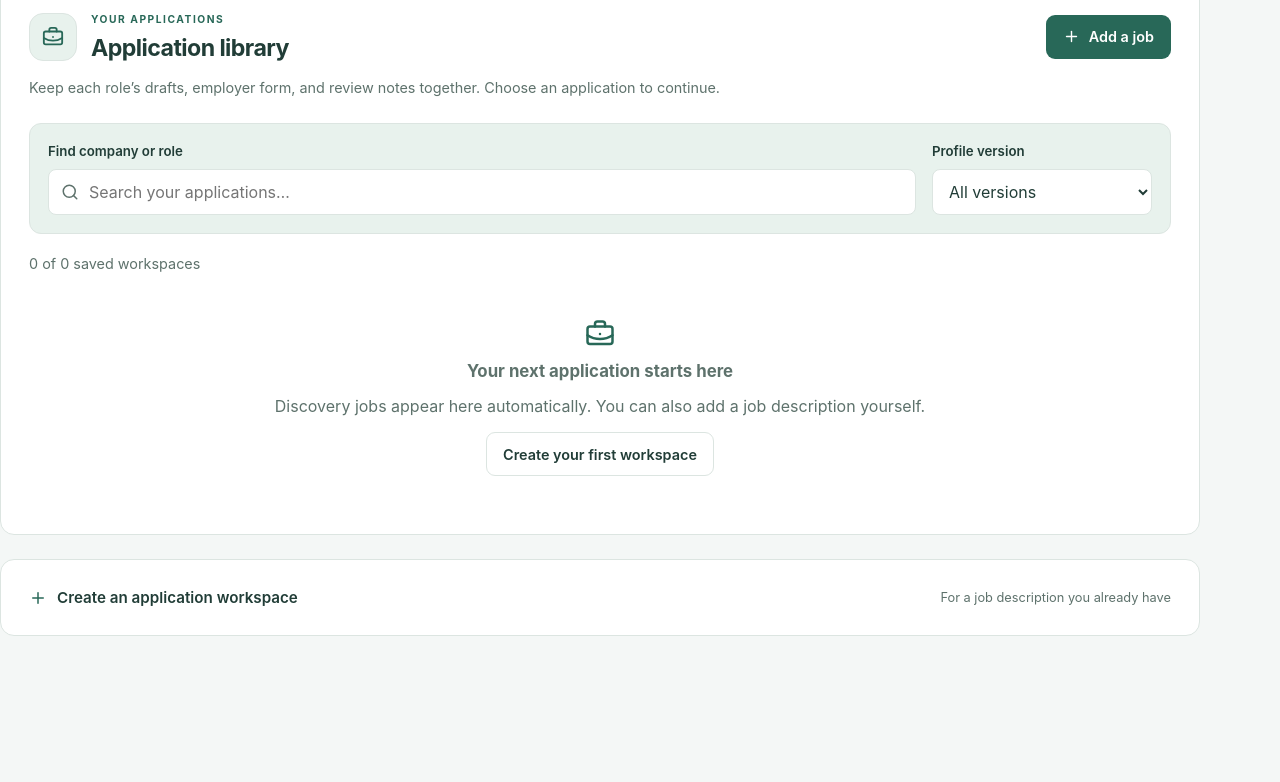
Test: creates a workspace from the collapsed add-job form
Click the button "Add a job". click: (1108, 37)
box: [1046,15,1171,59]
(page scrolled)
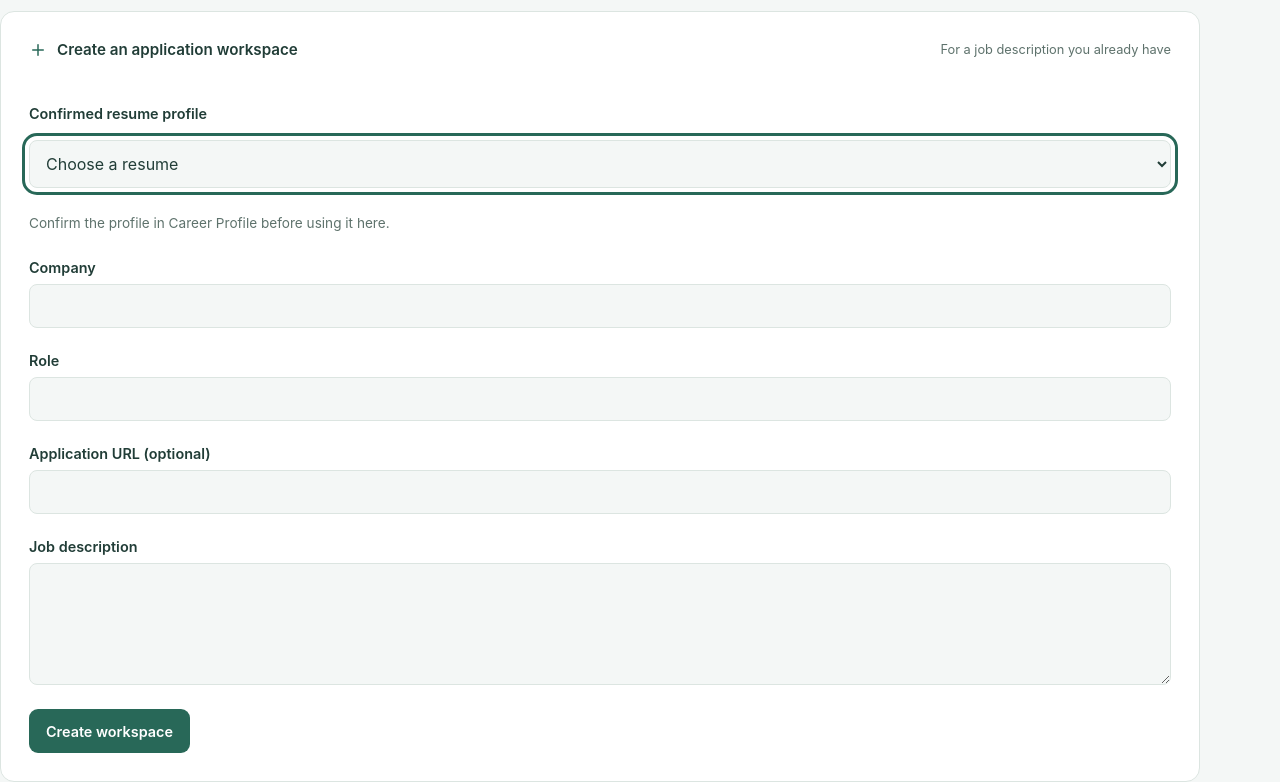
Select "Resume.pdf" in the dropdown labelled "Confirmed resume profile". click: (600, 164)
box: [29,140,1171,188]
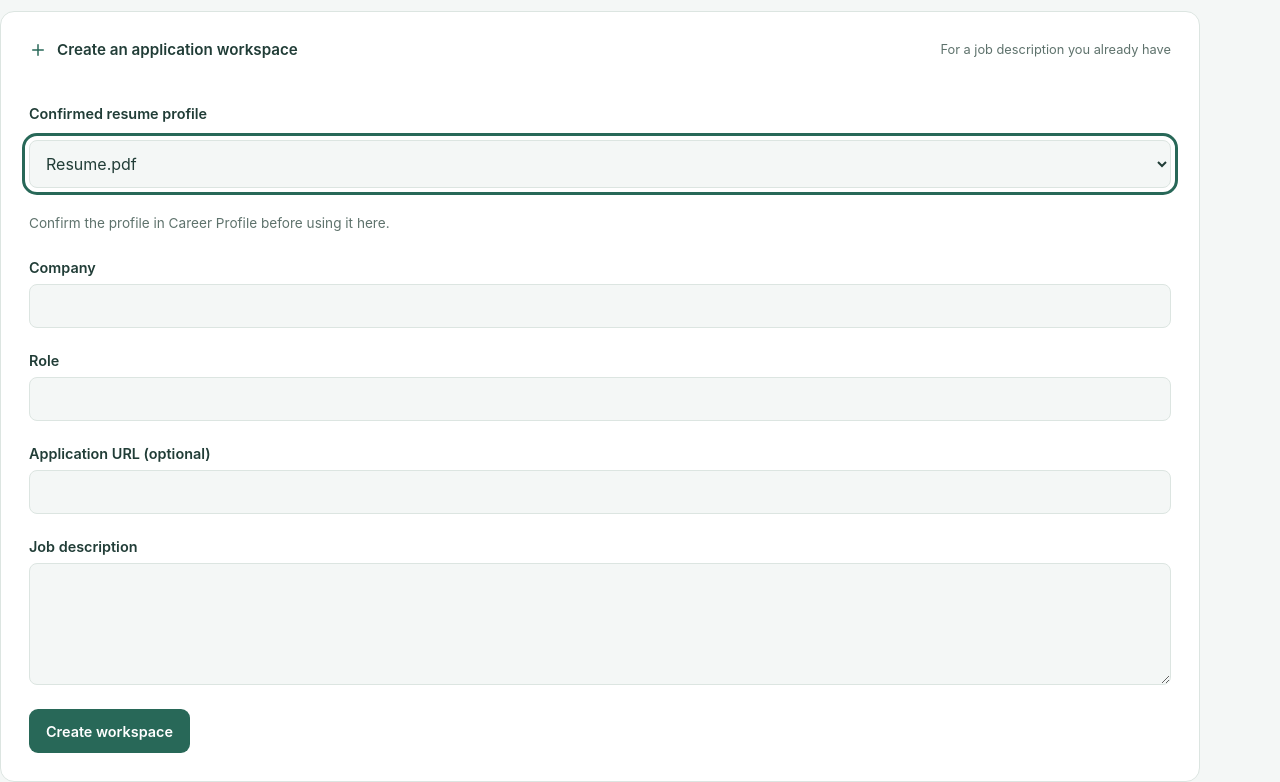
Type "Example" into the field labelled "Company". click: (600, 306)
box: [29,284,1171,328]
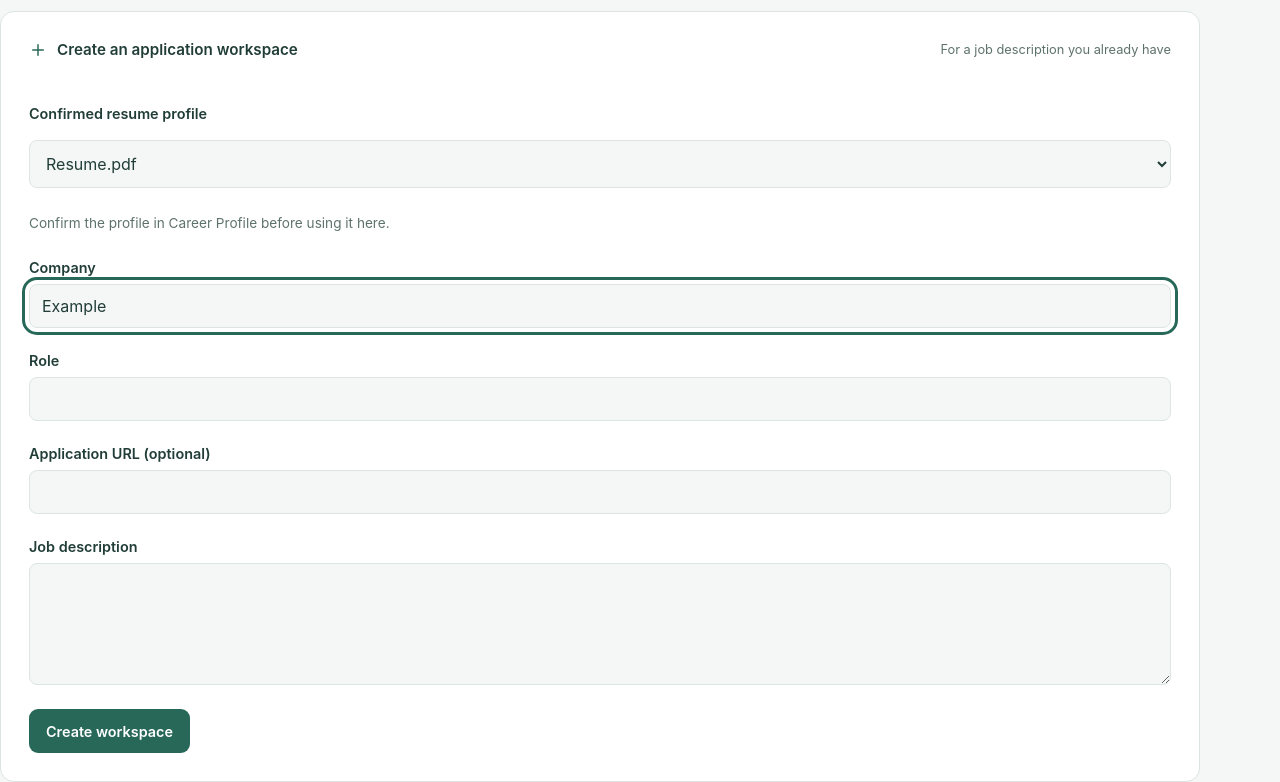
Type "Engineer" into the field labelled "Role". click: (600, 399)
box: [29,377,1171,421]
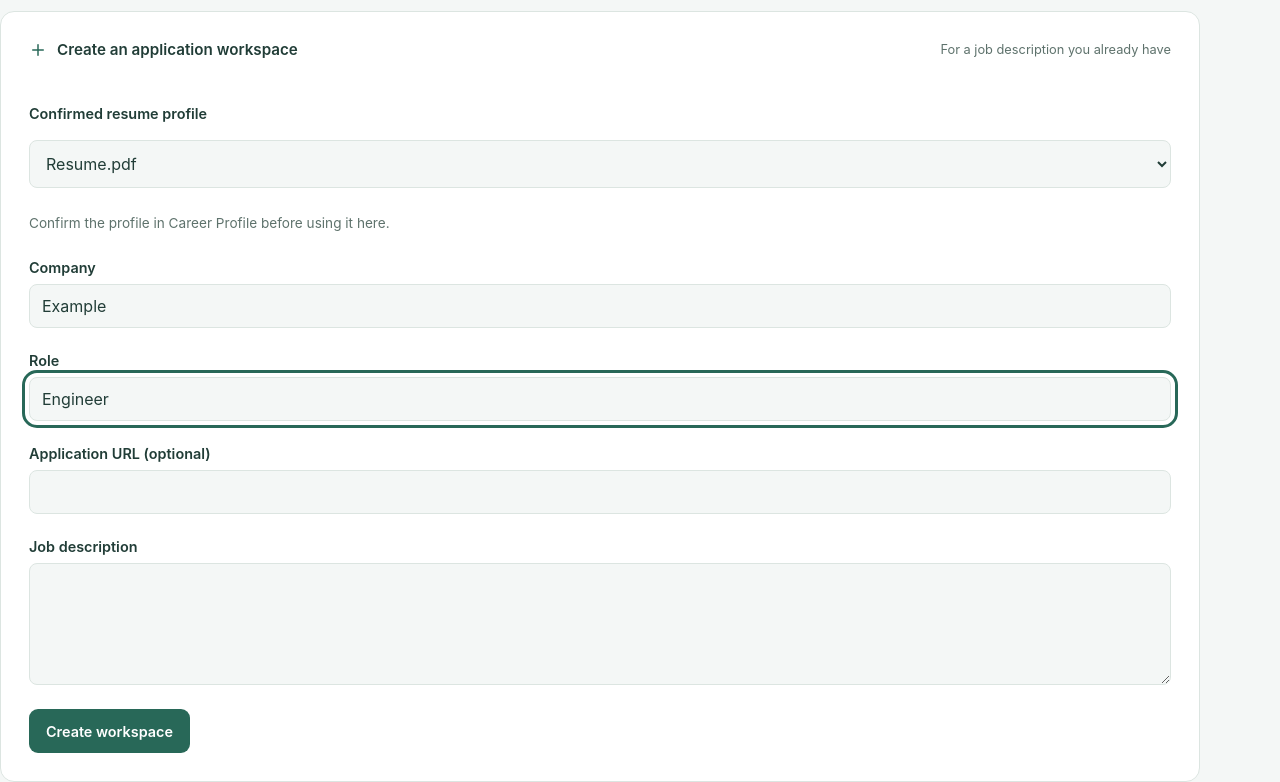
Type "Build APIs" into the text box labelled "Job description". click: (600, 624)
box: [29,563,1171,685]
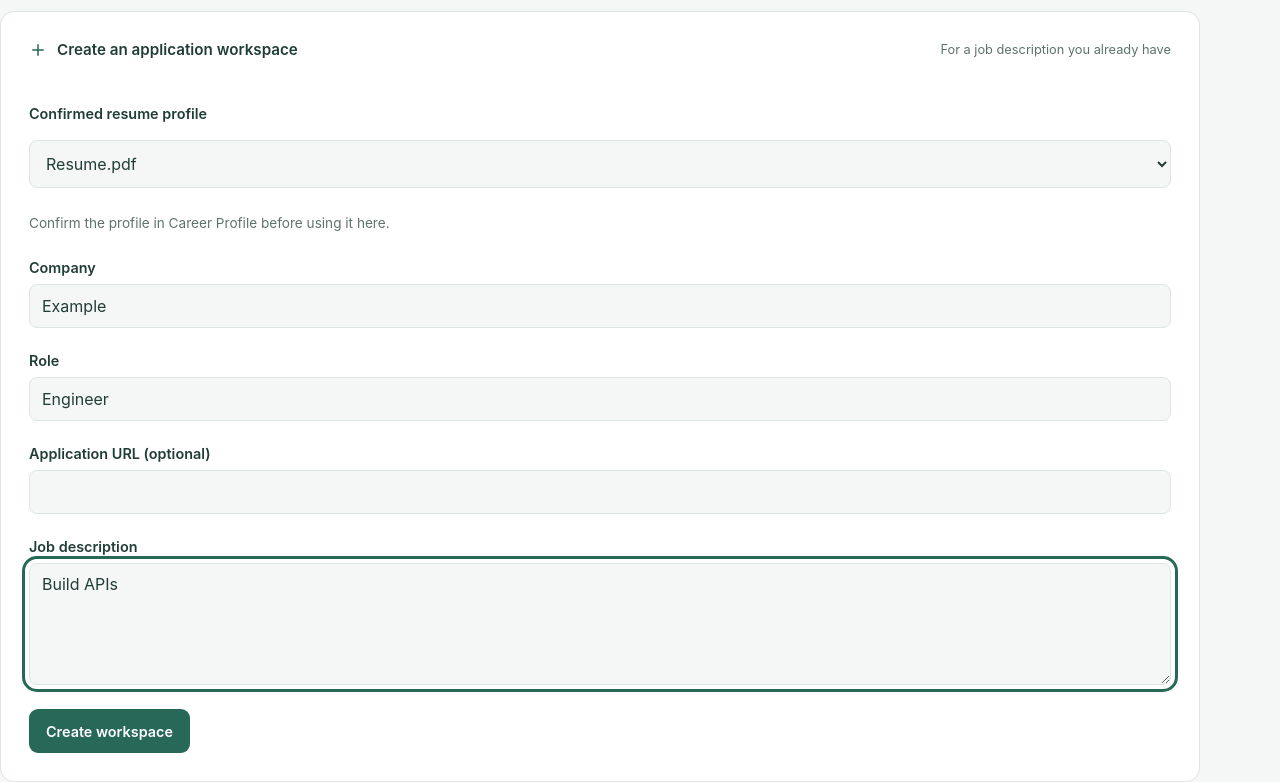
Click the button "Create workspace". click: (109, 731)
box: [29,709,190,753]
(page scrolled)
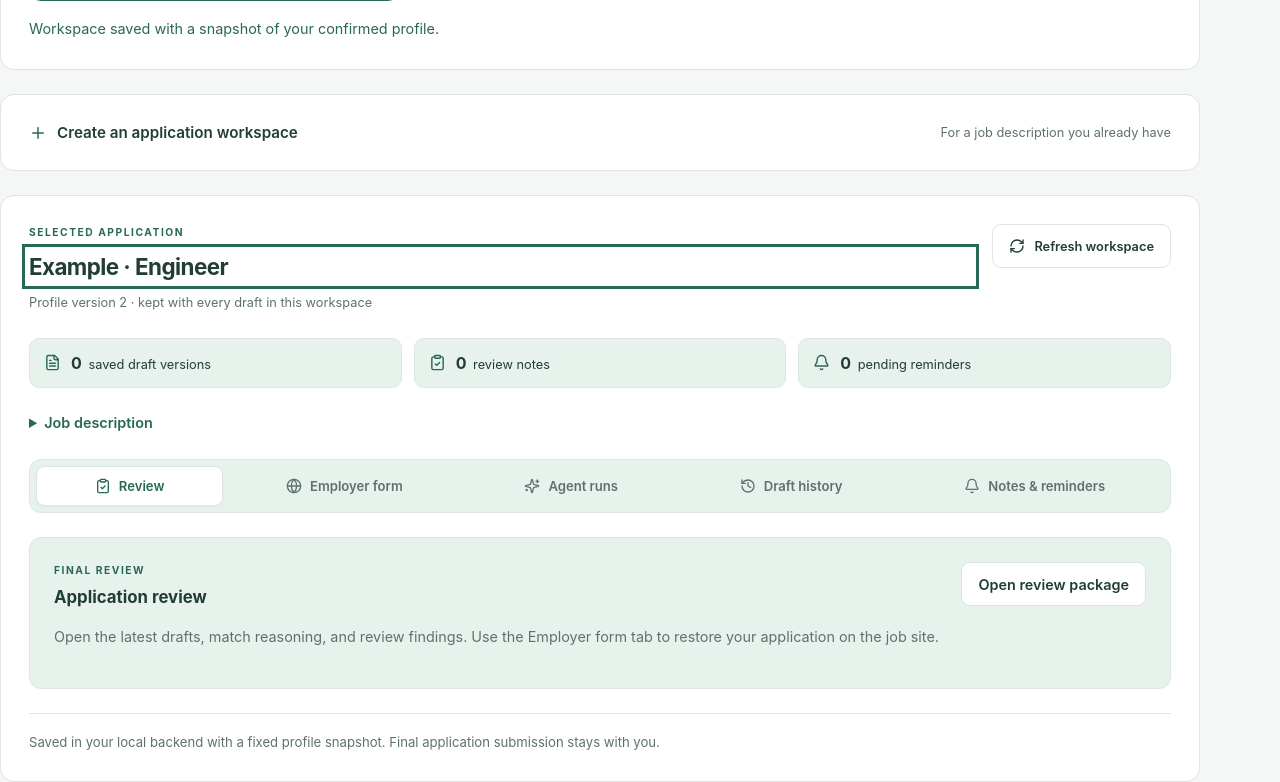
expect the text "Workspace saved with a snapshot of your confirmed profile." is shown: met, box [29,20,439,37]
